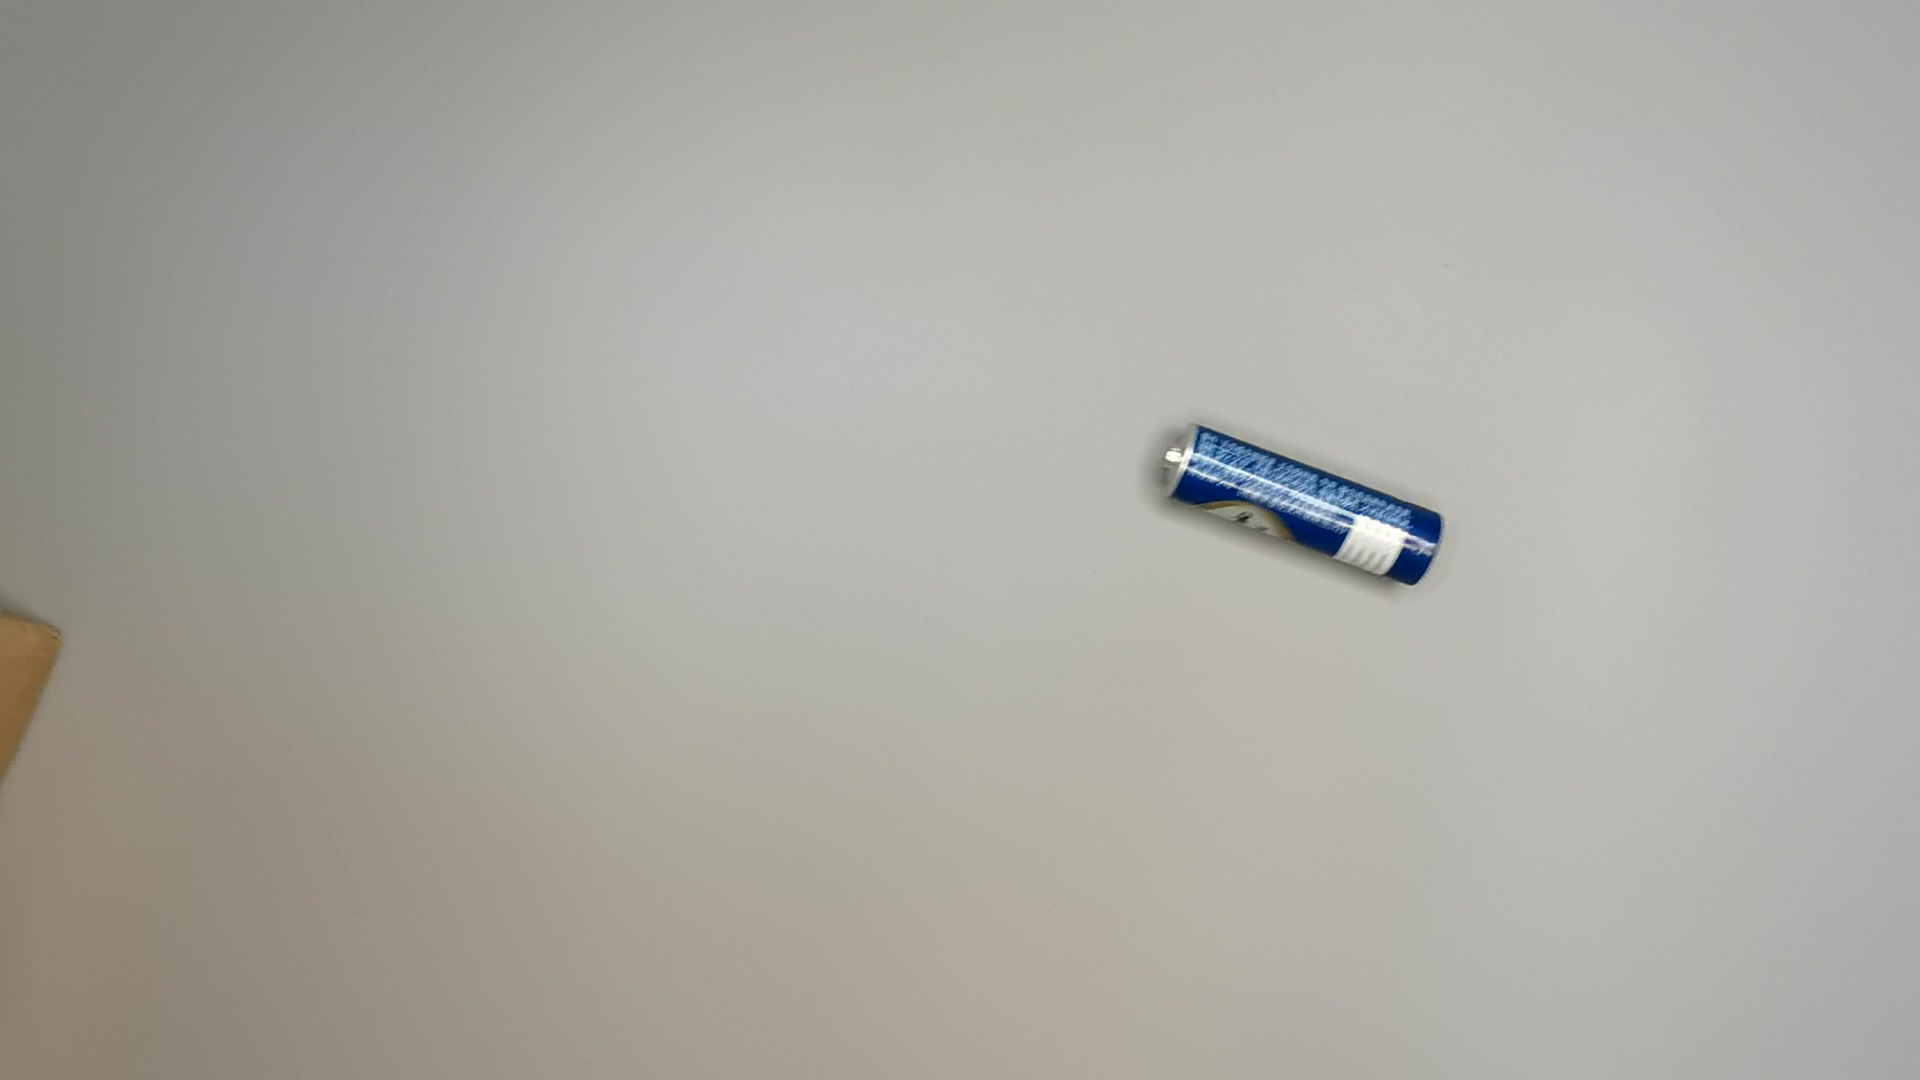battery: (1153, 422, 1452, 589)
